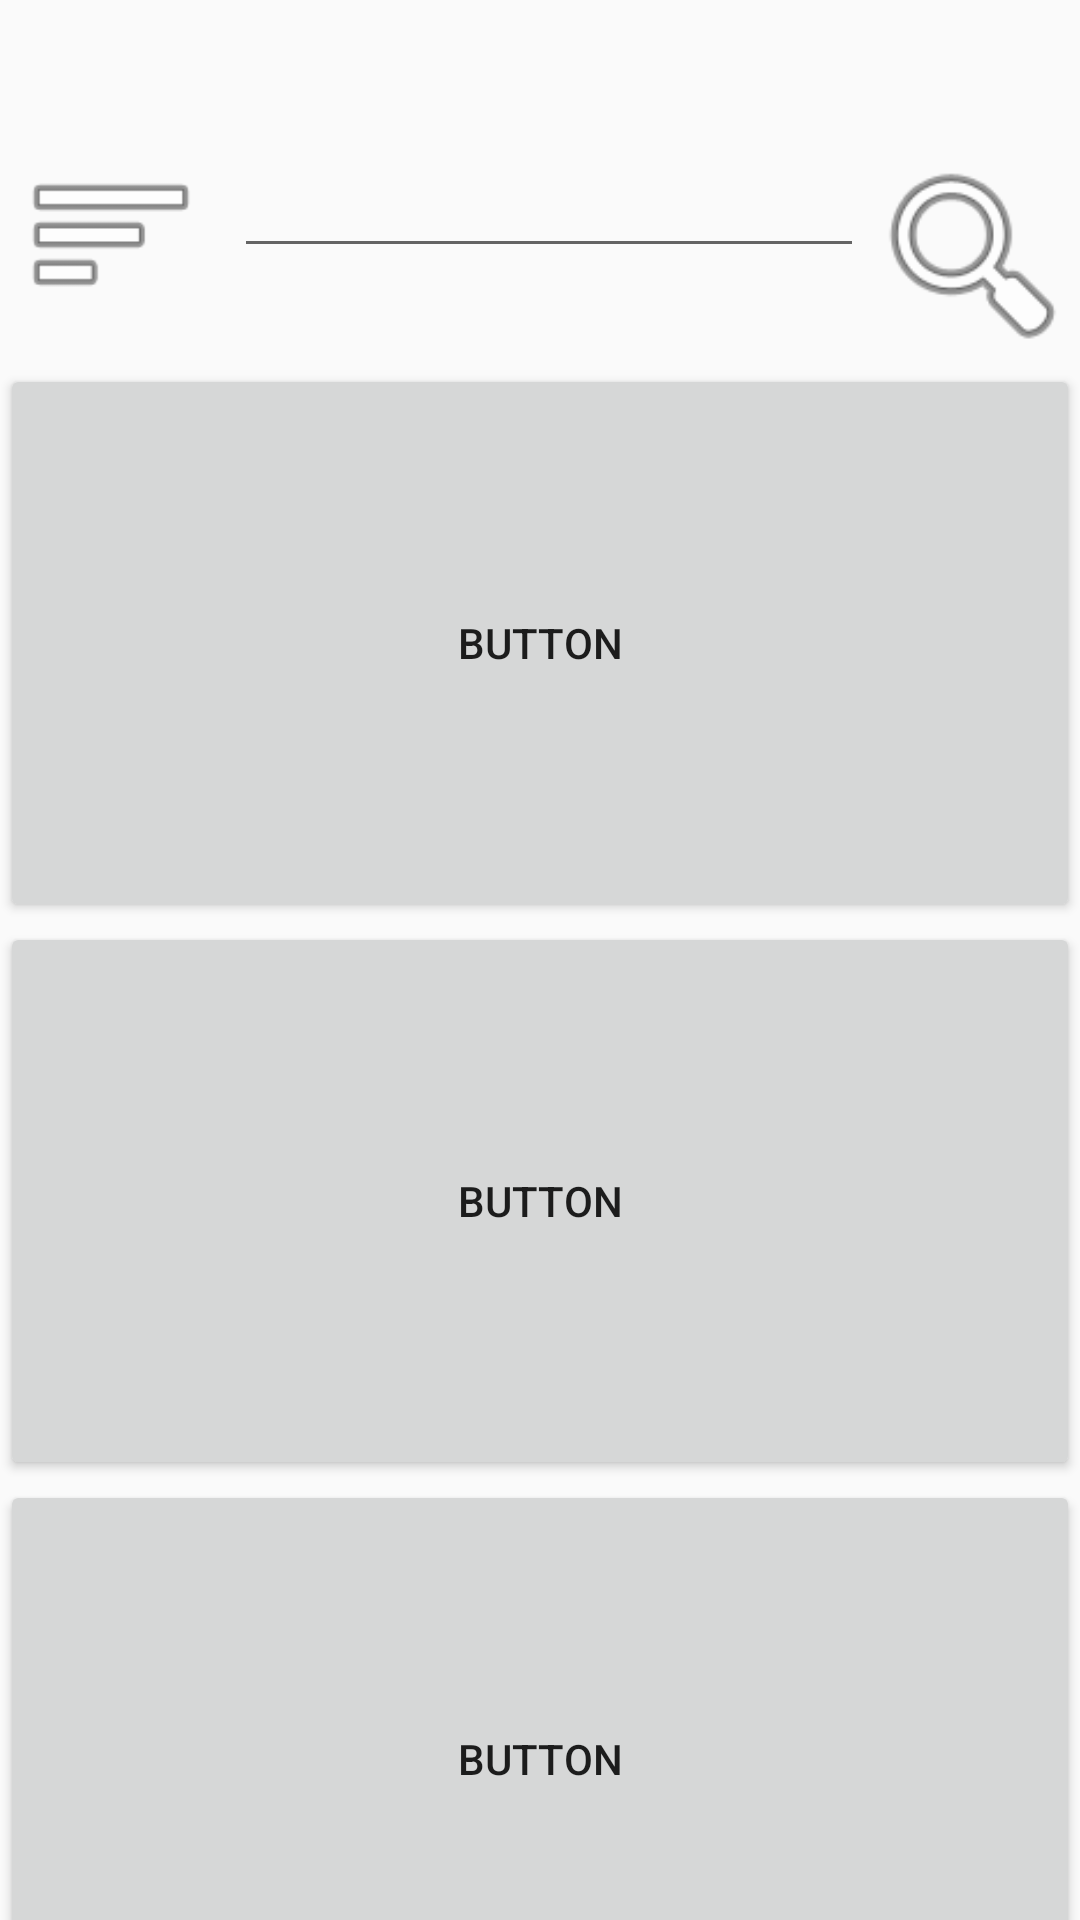

Where to tap for icons on this 1080×1920 app screen, as [x,y]:
search: [972,256]
sort by size: [111,235]
